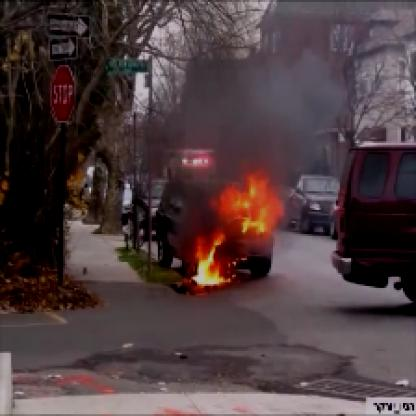Fire: (169, 165, 280, 290)
